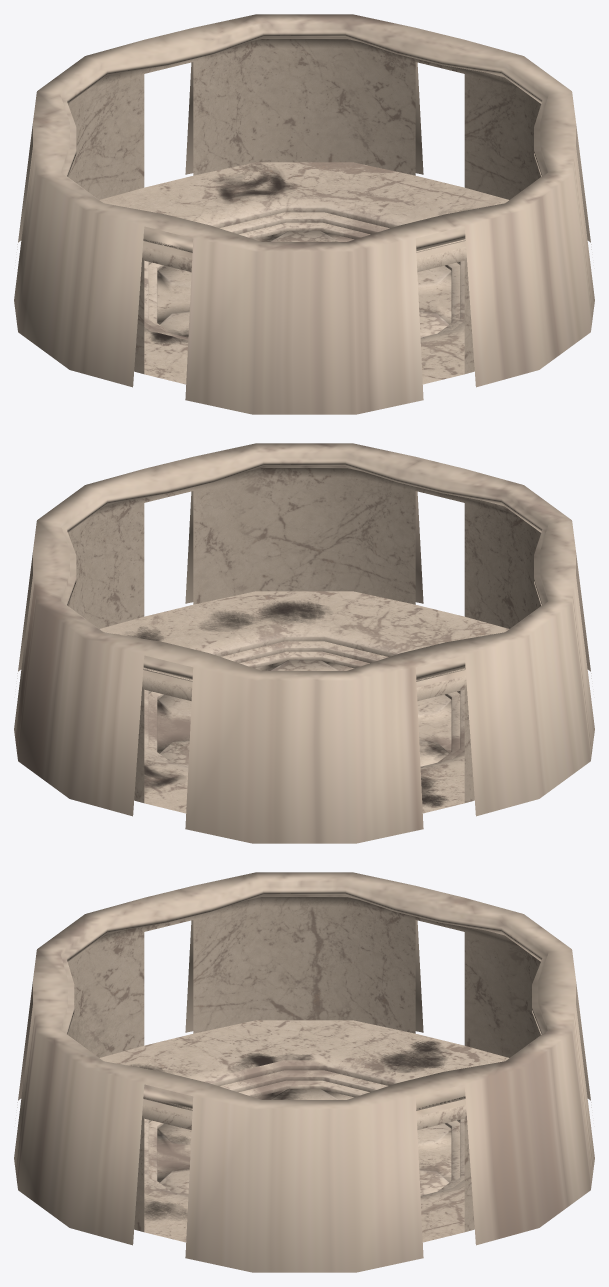
The model's file is atrium_Main.fbx.
3 renders of one model, top to bottom at view 1: azimuth 30°, elevation 25°; view 2: azimuth 150°, elevation 25°; view 3: azimuth 270°, elevation 25°, orthographic.
Parts seen in each view (by area): view 1: ATRIUM.001; view 2: ATRIUM.001; view 3: ATRIUM.001.
Part boxes in pixels (bbox=[...]): ATRIUM.001: bbox=[14, 14, 594, 414]; ATRIUM.001: bbox=[14, 443, 594, 843]; ATRIUM.001: bbox=[14, 872, 594, 1272].
Size of the model in its own units: 4144 by 1262 by 3999.
2 materials, 2 textured.
